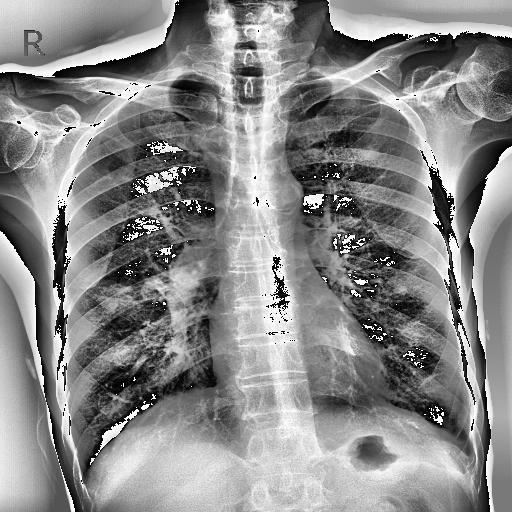11- Pleural thickening: (462, 454, 477, 468)
7- Lung Opacity: (98, 284, 131, 312)
8- Nodule-Mass: (98, 284, 131, 312), (360, 144, 380, 160), (366, 148, 380, 162)
9- Other lesion: (365, 149, 382, 160)
